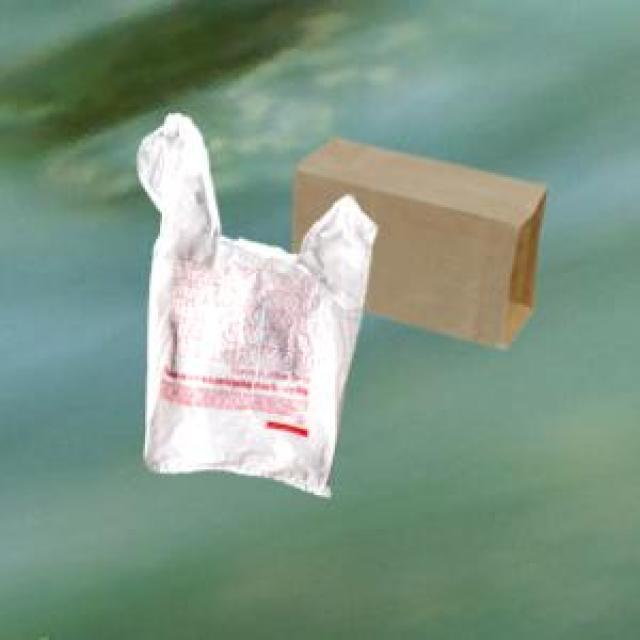paper: (290, 134, 544, 344)
